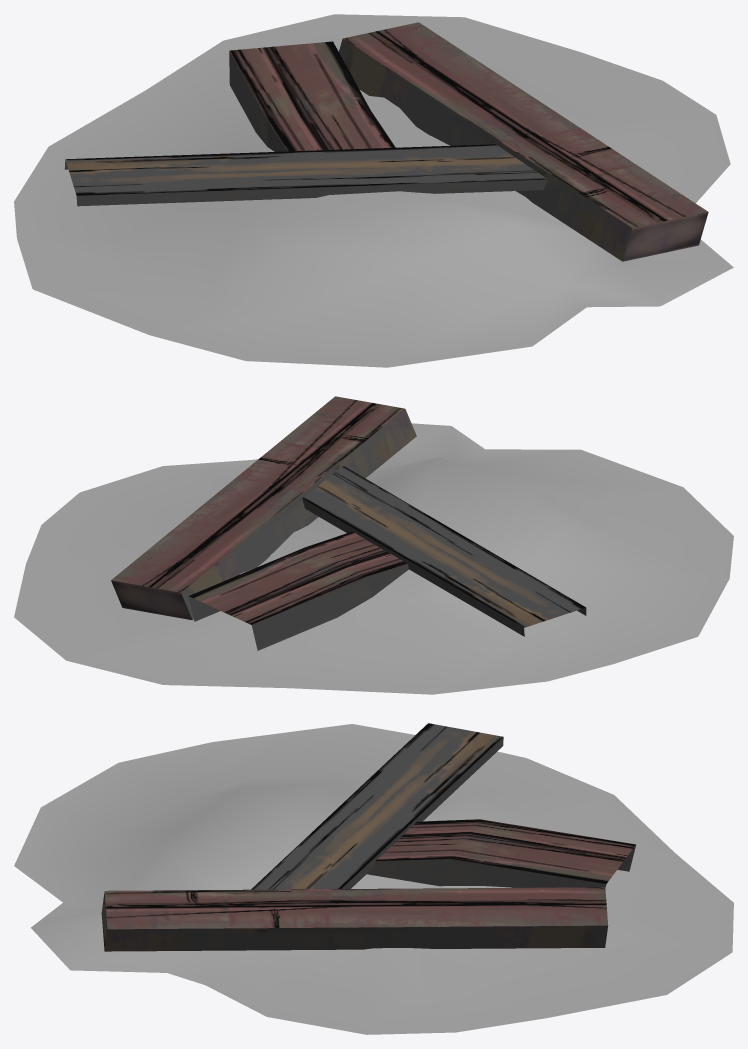
Rendered from RubblePile_Small.fbx.
3 renders of one model, top to bottom at view 1: azimuth 30°, elevation 25°; view 2: azimuth 150°, elevation 25°; view 3: azimuth 270°, elevation 25°, orthographic. The views are drawn at different scales.
Parts seen in each view (by area): view 1: RubblePile_Small, RChunk_02, RChunk_03, RChunk_01; view 2: RubblePile_Small, RChunk_02, RChunk_03, RChunk_01; view 3: RubblePile_Small, RChunk_02, RChunk_03, RChunk_01.
Part boxes in pixels (x1,y1,x2,y2): RubblePile_Small: [14, 14, 733, 367]; RChunk_02: [339, 22, 708, 261]; RChunk_03: [64, 144, 548, 206]; RChunk_01: [229, 41, 395, 151]; RubblePile_Small: [14, 423, 733, 694]; RChunk_02: [111, 396, 416, 620]; RChunk_03: [302, 465, 586, 636]; RChunk_01: [188, 531, 408, 650]; RubblePile_Small: [14, 724, 733, 1034]; RChunk_02: [101, 887, 608, 951]; RChunk_03: [251, 723, 503, 889]; RChunk_01: [367, 819, 636, 887].
Bounding box in the file's own units: 11.29 × 1.01 × 11.04.
